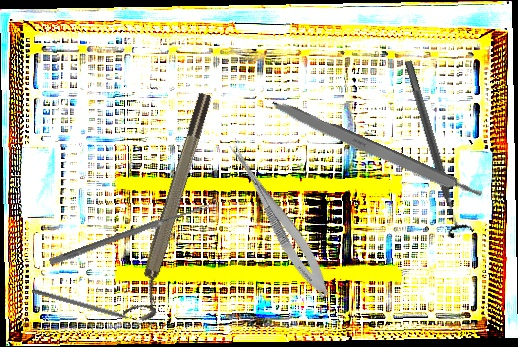Fixation Ring: (122, 90, 226, 325), (395, 56, 475, 240)
Hook Surgical: (31, 287, 147, 327)
Micro Scissor: (219, 139, 337, 302)
Scalpel Handle: (268, 97, 484, 205)
Surgical Spoon: (48, 201, 211, 267)
